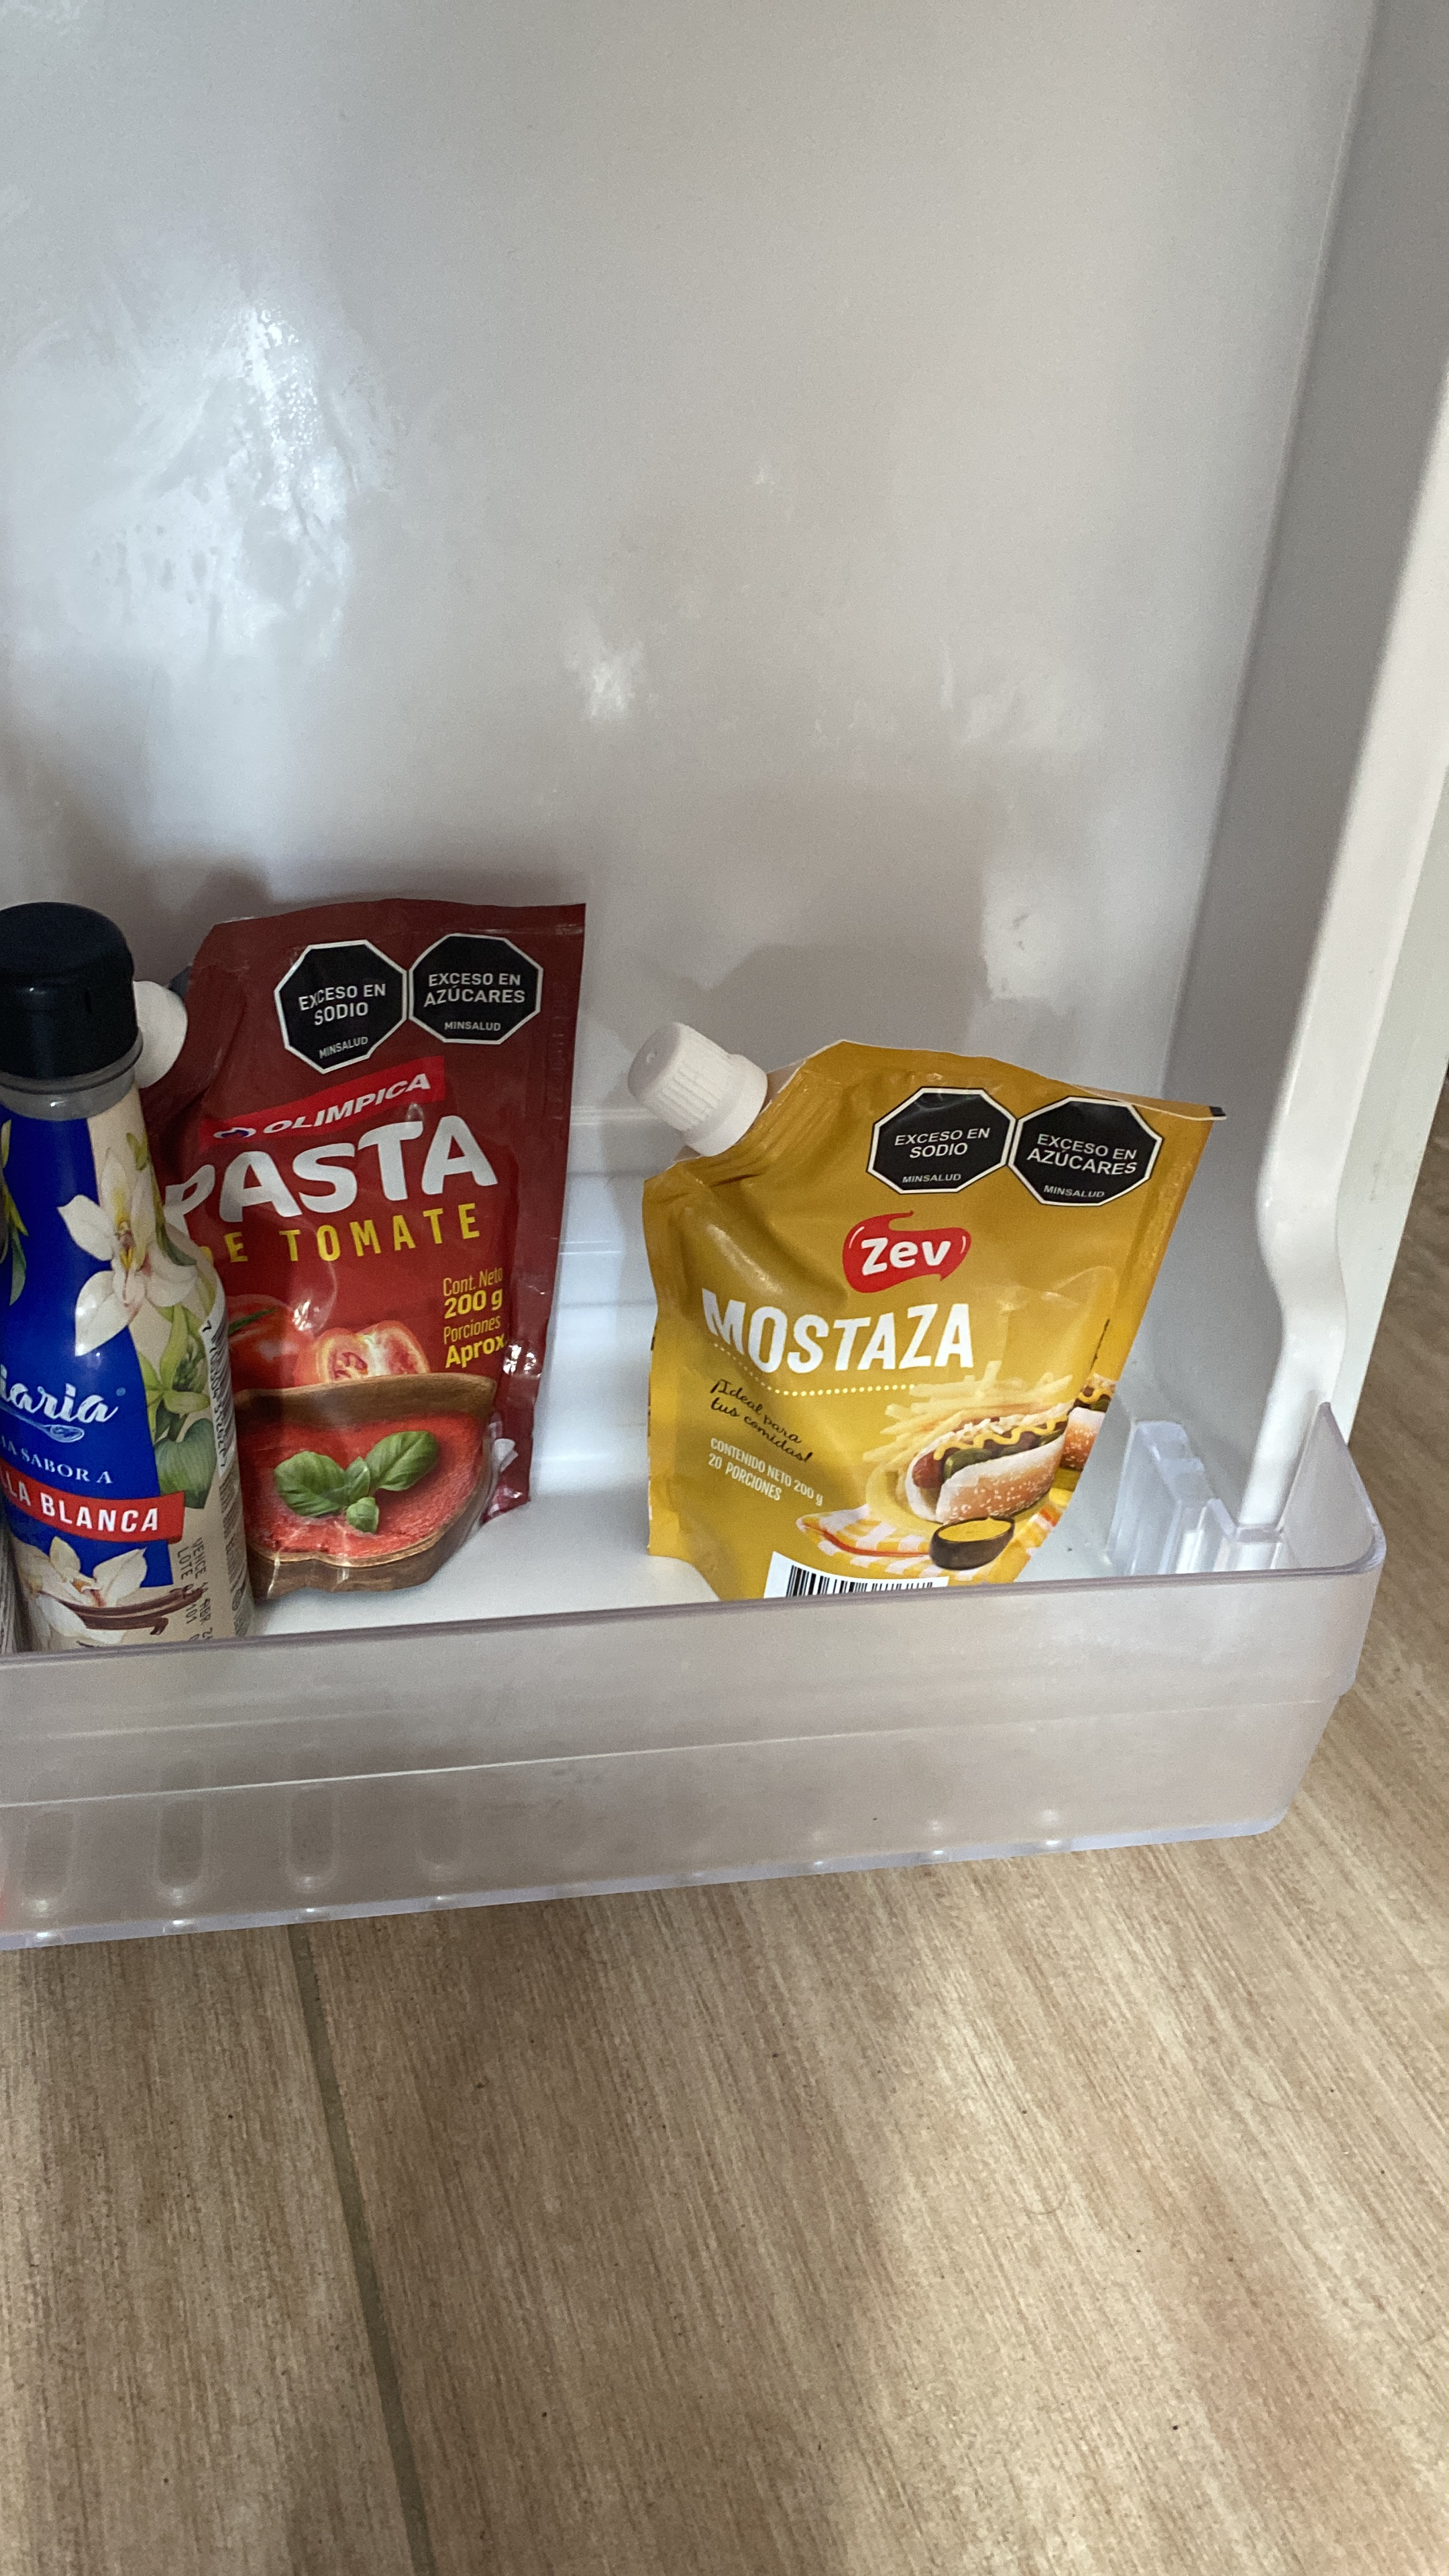Mostaza: (623, 973, 1223, 1652)
